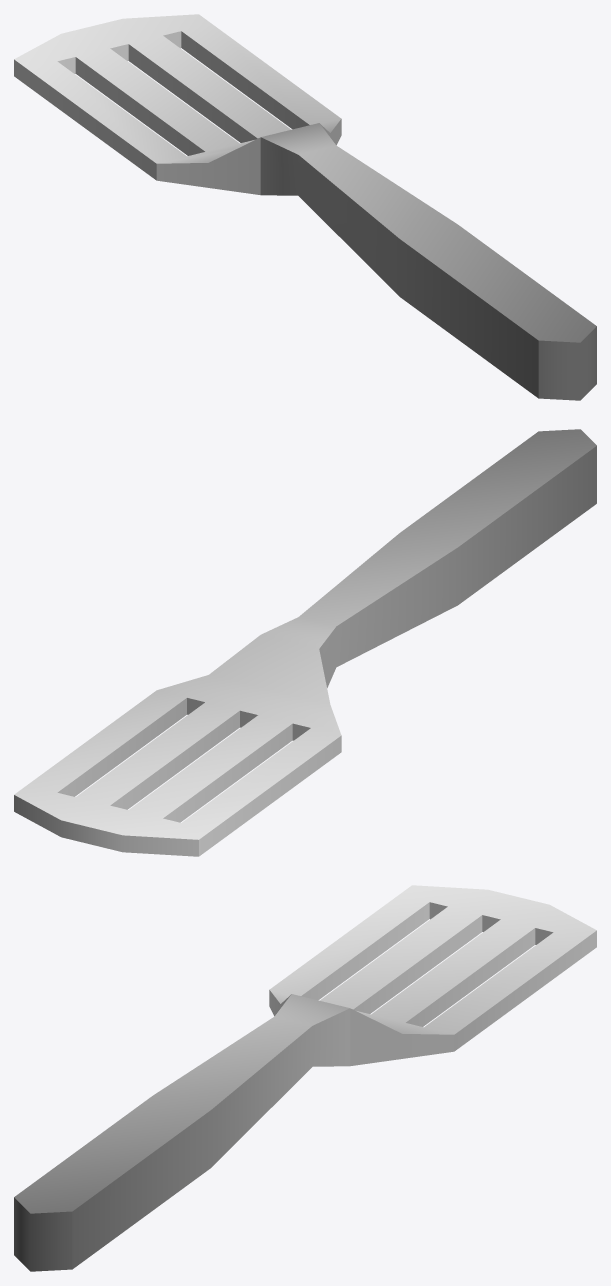
File: Spatula (1).fbx
3 renders of one model, top to bottom at view 1: azimuth 30°, elevation 25°; view 2: azimuth 150°, elevation 25°; view 3: azimuth 330°, elevation 25°, orthographic.
Parts seen in each view (by area): view 1: Spatula; view 2: Spatula; view 3: Spatula.
Part boxes in pixels (box(x1,y1,x2,y2)): Spatula: box(14, 14, 596, 400); Spatula: box(14, 429, 596, 856); Spatula: box(14, 885, 596, 1271).
Bounding box in the file's own units: 22.96 × 6.89 × 105.
Materials: 1 (1 with a texture image).
